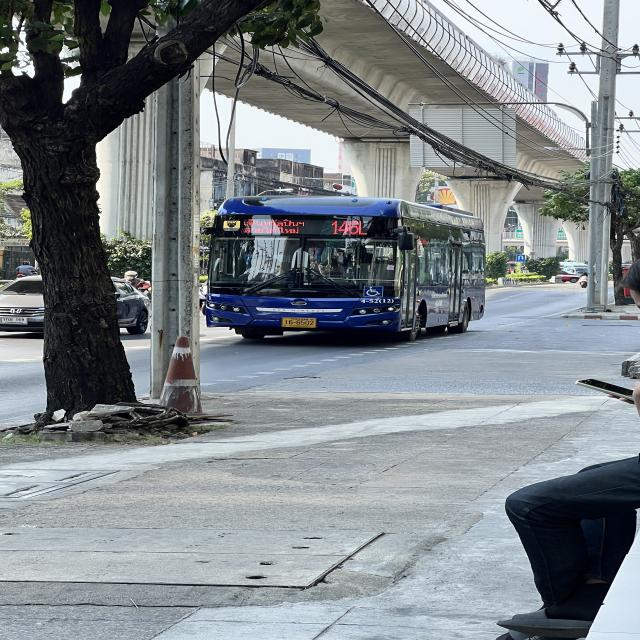Bus Line Number: (327, 218, 377, 236)
Bus Side Number: (356, 296, 398, 305)
Destination Sign: (237, 216, 311, 238)
TSB-Bus: (205, 195, 486, 342)
